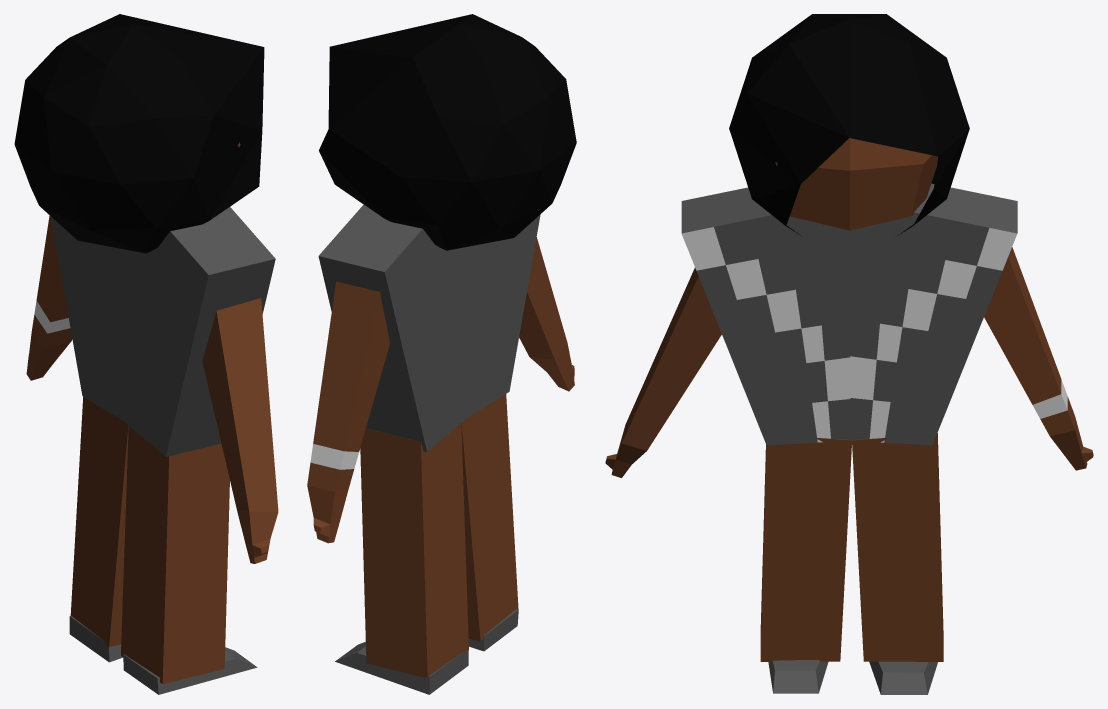
The model's file is ladrao.fbx.
The picture shows the model from 3 angles, left to right: view 1: azimuth 30°, elevation 25°; view 2: azimuth 150°, elevation 25°; view 3: azimuth 270°, elevation 25°; orthographic projection.
Visible parts, largest first — view 1: Cube; view 2: Cube; view 3: Cube.
Part boxes in pixels (x1,y1,x2,y2): Cube: (14, 14, 278, 694); Cube: (307, 14, 576, 694); Cube: (605, 14, 1093, 694).
Bounding box in the file's own units: 3.15 × 8.33 × 5.79.
